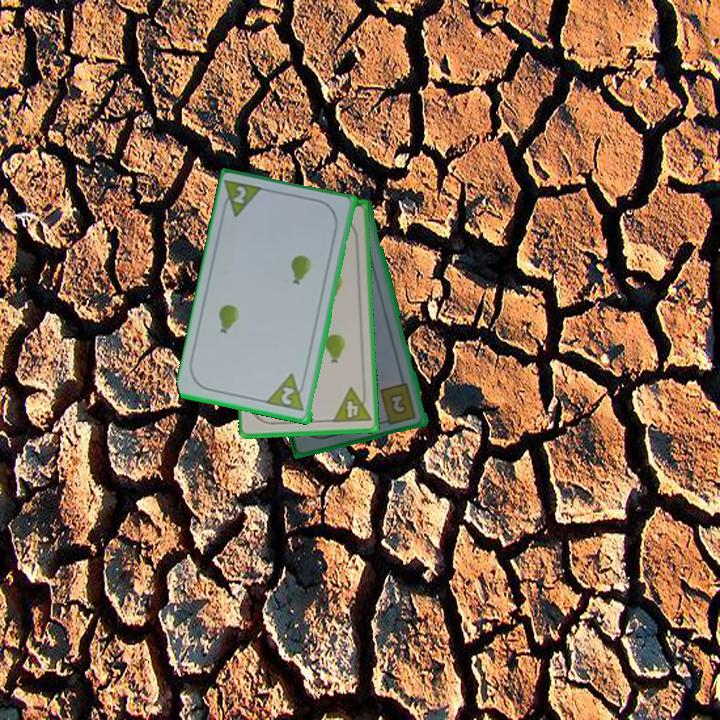2b: (377, 380, 419, 428)
2p: (219, 177, 267, 221), (277, 383, 299, 408)
4p: (329, 384, 374, 426)
